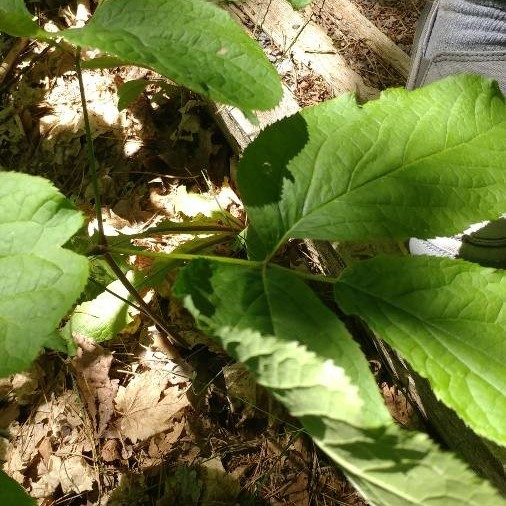obstacle: (120, 39, 470, 461)
